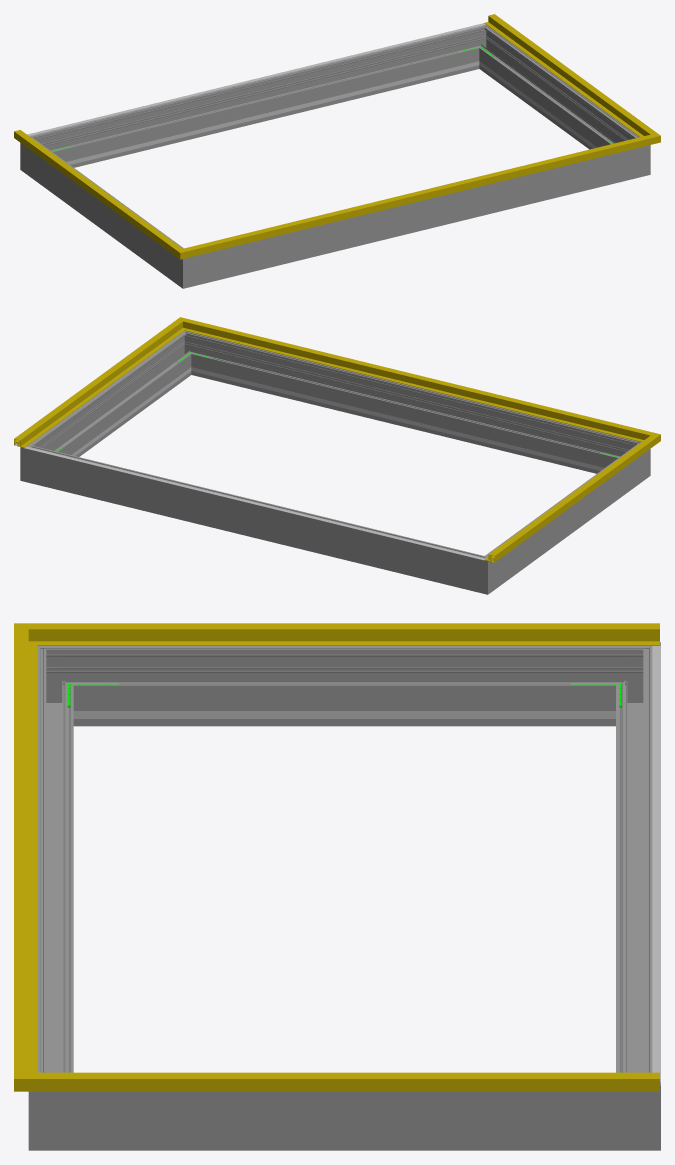
3 renders of one model, top to bottom at view 1: azimuth 30°, elevation 25°; view 2: azimuth 150°, elevation 25°; view 3: azimuth 270°, elevation 25°, orthographic. The views are drawn at different scales.
Parts seen in each view (by area): view 1: 3DGeom-276, 3DGeom-298, 3DGeom-297, 3DGeom-123, 3DGeom-268, 3DGeom-128, 3DGeom-118, 3DGeom-244, 3DGeom-220, 3DGeom-270, 3DGeom-284, 3DGeom-290 (+3 smaller); view 2: 3DGeom-298, 3DGeom-276, 3DGeom-297, 3DGeom-123, 3DGeom-268, 3DGeom-128, 3DGeom-118, 3DGeom-239, 3DGeom-278, 3DGeom-220, 3DGeom-284, 3DGeom-290 (+3 smaller); view 3: 3DGeom-268, 3DGeom-297, 3DGeom-276, 3DGeom-298, 3DGeom-118, 3DGeom-128, 3DGeom-123, 3DGeom-220, 3DGeom-232, 3DGeom-290, 3DGeom-284, 3DGeom-270 (+3 smaller).
Part boxes in pixels (<box>): 3DGeom-276: <box>46,29,475,167</box>; 3DGeom-298: <box>207,151,626,282</box>; 3DGeom-297: <box>481,33,632,149</box>; 3DGeom-123: <box>201,139,636,253</box>; 3DGeom-268: <box>34,144,176,278</box>; 3DGeom-128: <box>484,14,646,134</box>; 3DGeom-118: <box>14,130,172,248</box>; 3DGeom-244: <box>75,67,456,163</box>; 3DGeom-220: <box>27,23,485,135</box>; 3DGeom-270: <box>169,243,206,288</box>; 3DGeom-284: <box>466,25,497,70</box>; 3DGeom-290: <box>626,132,650,180</box>; 3DGeom-298: <box>195,335,624,473</box>; 3DGeom-276: <box>44,450,468,588</box>; 3DGeom-297: <box>38,339,189,456</box>; 3DGeom-123: <box>198,323,636,439</box>; 3DGeom-268: <box>494,450,636,584</box>; 3DGeom-128: <box>14,327,176,447</box>; 3DGeom-118: <box>484,443,646,562</box>; 3DGeom-239: <box>214,373,595,469</box>; 3DGeom-278: <box>464,549,501,594</box>; 3DGeom-220: <box>24,446,485,560</box>; 3DGeom-284: <box>20,438,48,486</box>; 3DGeom-290: <box>173,331,204,376</box>; 3DGeom-268: <box>82,646,606,726</box>; 3DGeom-297: <box>82,1091,606,1150</box>; 3DGeom-276: <box>616,665,652,1072</box>; 3DGeom-298: <box>37,665,73,1072</box>; 3DGeom-118: <box>68,623,659,645</box>; 3DGeom-128: <box>68,1072,659,1091</box>; 3DGeom-123: <box>14,646,37,1068</box>; 3DGeom-220: <box>652,645,660,1082</box>; 3DGeom-232: <box>125,711,563,718</box>; 3DGeom-290: <box>28,1063,82,1150</box>; 3DGeom-284: <box>607,1063,660,1150</box>; 3DGeom-270: <box>37,646,82,726</box>.
Size of the model in its own units: 3.05 by 0.2434 by 1.83.
